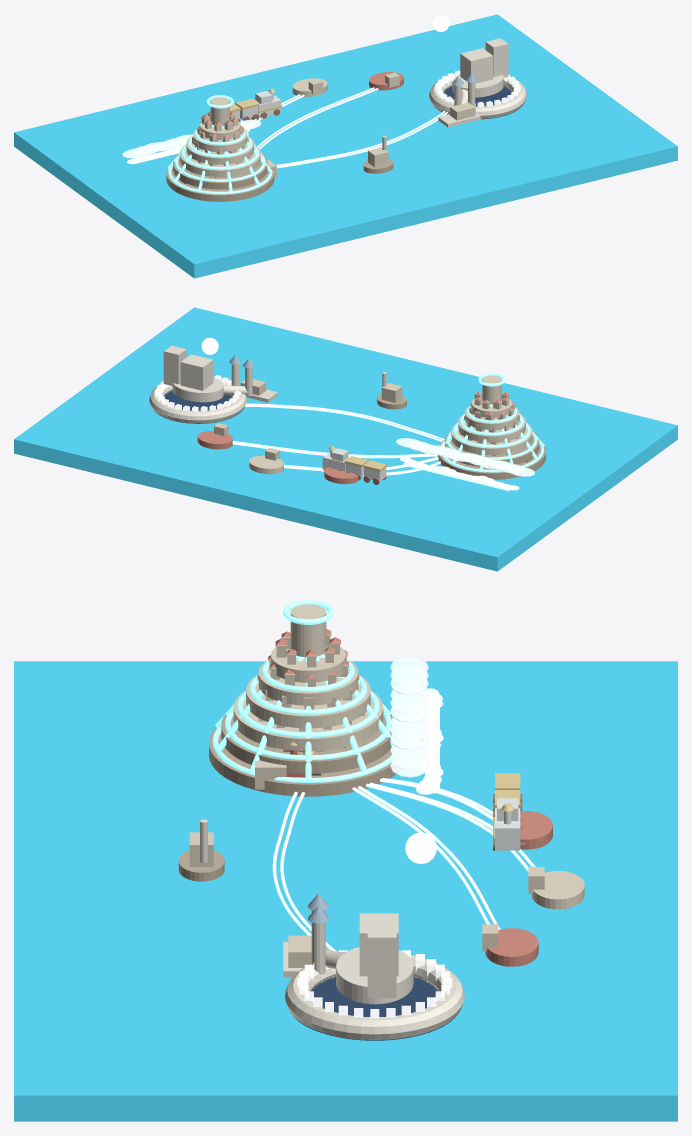
Rendered from water-7-sea-train-network.glb.
3 views of the same model, one above another, from view 1: azimuth 30°, elevation 25°; view 2: azimuth 150°, elevation 25°; view 3: azimuth 270°, elevation 25° (orthographic). The views are drawn at different scales.
Parts seen in each view (by area): view 1: Sea Train ocean stage, Enies Lobby stone rim, Water 7 seawall tier 1, Water 7 seawall tier 2, Enies Lobby courthouse, Water 7 seawall tier 3, Tower of Justice, Water 7 seawall tier 4, Enies Lobby court island, Water 7 seawall tier 5, Water 7 fountain crown, Enies Lobby black ocean void (+3 smaller); view 2: Sea Train ocean stage, Enies Lobby stone rim, Enies Lobby courthouse, Water 7 seawall tier 3, Water 7 seawall tier 1, Enies Lobby court island, Tower of Justice, Water 7 seawall tier 4, Water 7 seawall tier 2, Enies Lobby black ocean void, San Faldo island, St. Poplar island (+8 smaller); view 3: Sea Train ocean stage, Enies Lobby stone rim, Water 7 seawall tier 1, Water 7 seawall tier 2, Water 7 seawall tier 3, Water 7 seawall tier 4, Tower of Justice, Enies Lobby court island, Enies Lobby black ocean void, Water 7 seawall tier 5, St. Poplar island, San Faldo island (+13 smaller).
Part boxes in pixels (x1=…): Sea Train ocean stage: x1=14, y1=14, x2=677, y2=278; Enies Lobby stone rim: x1=429, y1=73, x2=526, y2=118; Water 7 seawall tier 1: x1=166, y1=164, x2=274, y2=201; Water 7 seawall tier 2: x1=173, y1=153, x2=267, y2=189; Enies Lobby courthouse: x1=460, y1=48, x2=493, y2=83; Water 7 seawall tier 3: x1=179, y1=144, x2=260, y2=176; Tower of Justice: x1=485, y1=38, x2=508, y2=77; Water 7 seawall tier 4: x1=186, y1=135, x2=254, y2=164; Enies Lobby court island: x1=452, y1=74, x2=503, y2=97; Water 7 seawall tier 5: x1=193, y1=128, x2=247, y2=152; Water 7 fountain crown: x1=210, y1=97, x2=229, y2=125; Enies Lobby black ocean void: x1=435, y1=86, x2=519, y2=119; Sea Train ocean stage: x1=14, y1=307, x2=677, y2=571; Enies Lobby stone rim: x1=149, y1=376, x2=246, y2=423; Enies Lobby courthouse: x1=180, y1=354, x2=213, y2=390; Water 7 seawall tier 3: x1=451, y1=422, x2=532, y2=455; Water 7 seawall tier 1: x1=438, y1=440, x2=545, y2=479; Enies Lobby court island: x1=172, y1=377, x2=223, y2=402; Tower of Justice: x1=163, y1=345, x2=186, y2=385; Water 7 seawall tier 4: x1=458, y1=413, x2=525, y2=442; Water 7 seawall tier 2: x1=444, y1=431, x2=539, y2=466; Enies Lobby black ocean void: x1=155, y1=391, x2=240, y2=423; San Faldo island: x1=197, y1=431, x2=232, y2=449; St. Poplar island: x1=249, y1=455, x2=283, y2=474; Sea Train ocean stage: x1=14, y1=661, x2=677, y2=1121; Enies Lobby stone rim: x1=285, y1=955, x2=464, y2=1039; Water 7 seawall tier 1: x1=209, y1=727, x2=395, y2=796; Water 7 seawall tier 2: x1=221, y1=714, x2=392, y2=773; Water 7 seawall tier 3: x1=233, y1=690, x2=383, y2=750; Water 7 seawall tier 4: x1=246, y1=674, x2=370, y2=728; Tower of Justice: x1=367, y1=924, x2=396, y2=997; Enies Lobby court island: x1=336, y1=947, x2=413, y2=1004; Enies Lobby black ocean void: x1=293, y1=977, x2=456, y2=1040; Water 7 seawall tier 5: x1=258, y1=659, x2=358, y2=705; St. Poplar island: x1=531, y1=871, x2=584, y2=909; San Faldo island: x1=485, y1=928, x2=538, y2=966.
Size of the model in its own units: 35.6 by 6.67 by 23.
